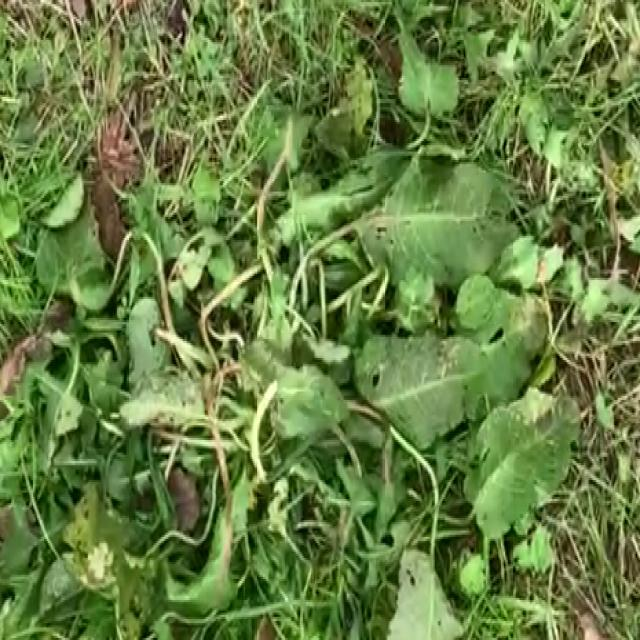organic waste: (31, 73, 583, 640)
